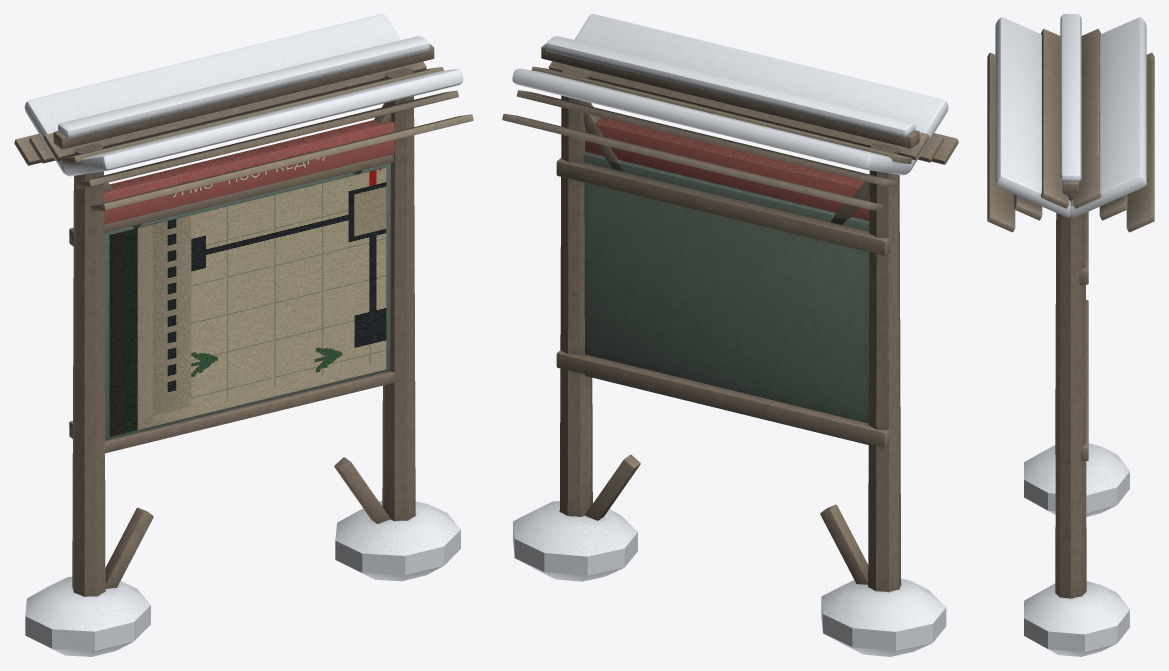
File: outpost_stand.glb
3 renders of one model, left to right at view 1: azimuth 30°, elevation 25°; view 2: azimuth 150°, elevation 25°; view 3: azimuth 270°, elevation 25°, orthographic. The views are drawn at different scales.
Parts seen in each view (by area): view 1: outpost_stand; view 2: outpost_stand; view 3: outpost_stand.
Boxes of the visible parts, box(x1,y1,x2,y2) form: outpost_stand: box(14, 14, 473, 656); outpost_stand: box(502, 14, 958, 656); outpost_stand: box(987, 14, 1154, 656).
Size of the model in its own units: 2.02 by 2.41 by 0.7551.
1 material, 1 textured.
